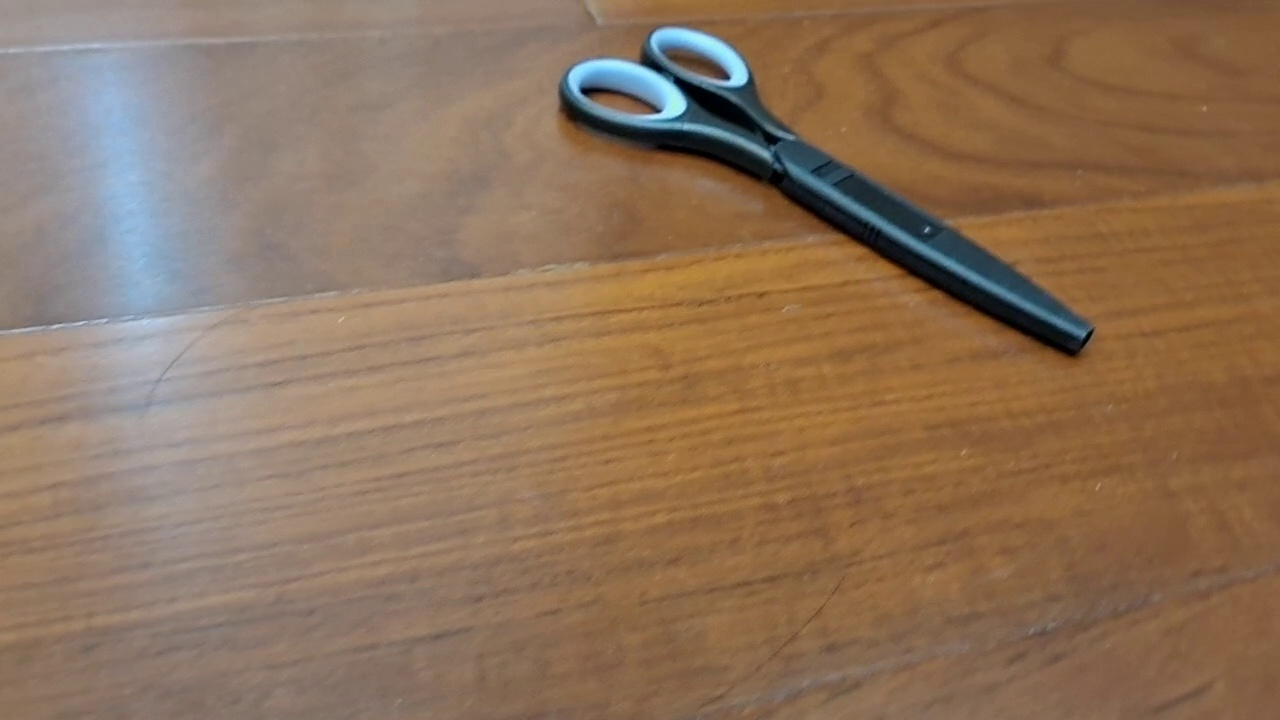scissors: (558, 23, 1096, 359)
